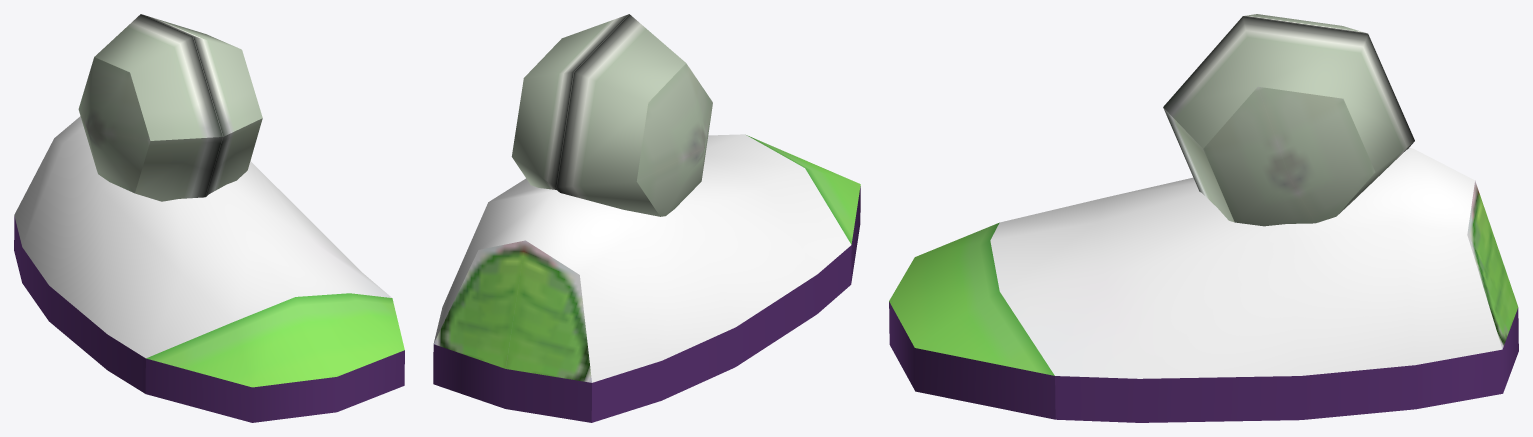
The model's file is buzzlightyRightFoot.obj.
3 views of the same model, side by side, from view 1: azimuth 30°, elevation 25°; view 2: azimuth 150°, elevation 25°; view 3: azimuth 270°, elevation 25° (orthographic). The views are drawn at different scales.
Parts seen in each view (by area): view 1: buzzlightyRightFoot_buzzlighty.005; view 2: buzzlightyRightFoot_buzzlighty.005; view 3: buzzlightyRightFoot_buzzlighty.005.
Boxes of the visible parts, x1,y1,x2,y2 form: buzzlightyRightFoot_buzzlighty.005: (14,14,404,422); buzzlightyRightFoot_buzzlighty.005: (433,14,860,422); buzzlightyRightFoot_buzzlighty.005: (889,14,1518,422).
Bounding box in the file's own units: 0.1084 × 0.1119 × 0.1904.
1 material, 1 textured.
